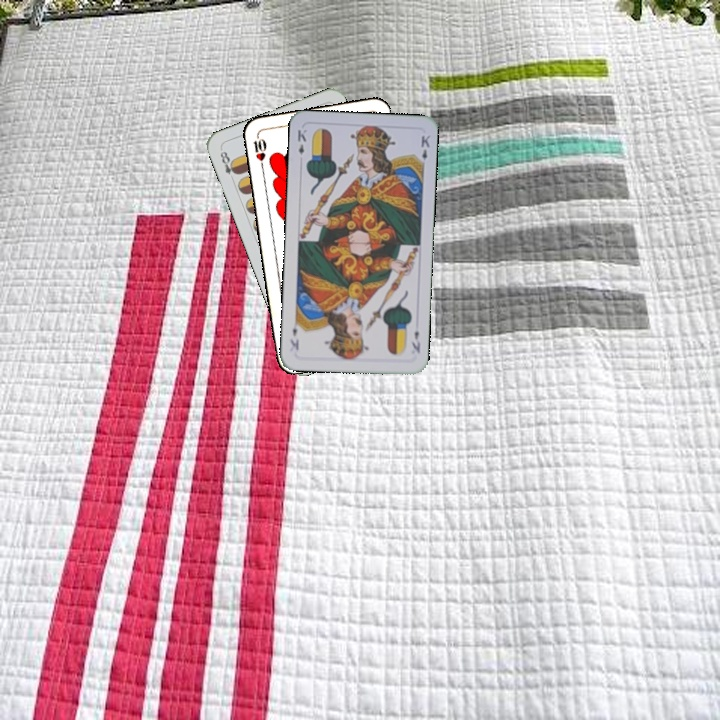E8: (216, 145, 240, 177)
EK: (293, 125, 309, 157), (408, 326, 423, 355)
H10: (250, 131, 269, 171)
